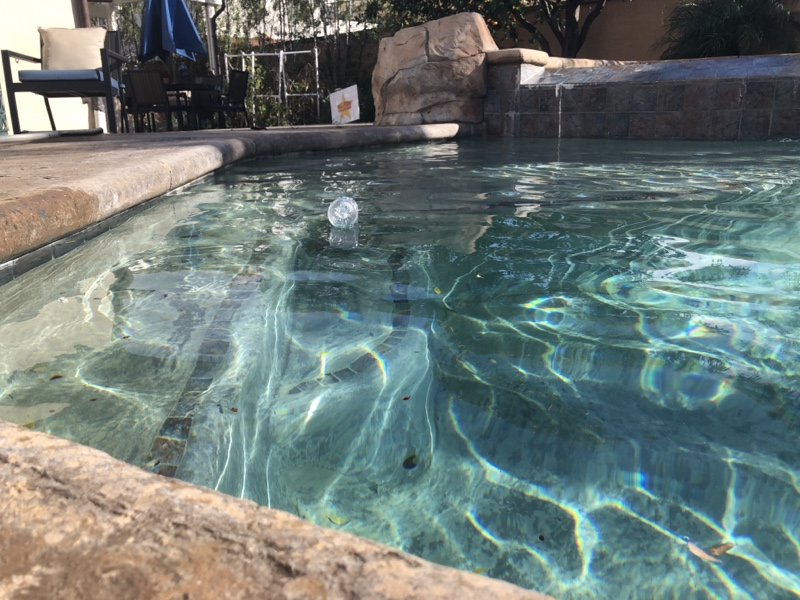Plastic Bottle: (325, 193, 360, 231)
